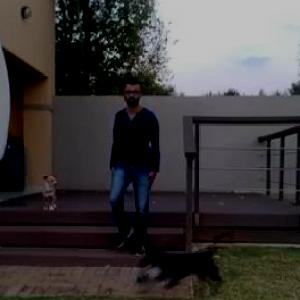follow: (112, 79, 162, 286)
